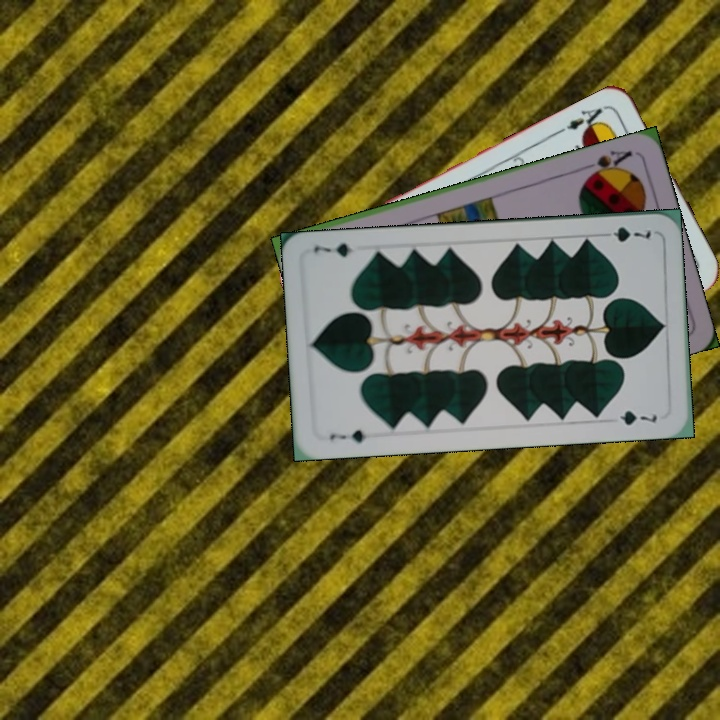EA: (556, 101, 611, 137)
G7: (596, 222, 653, 245), (326, 425, 369, 446)
SA: (578, 146, 635, 182)
